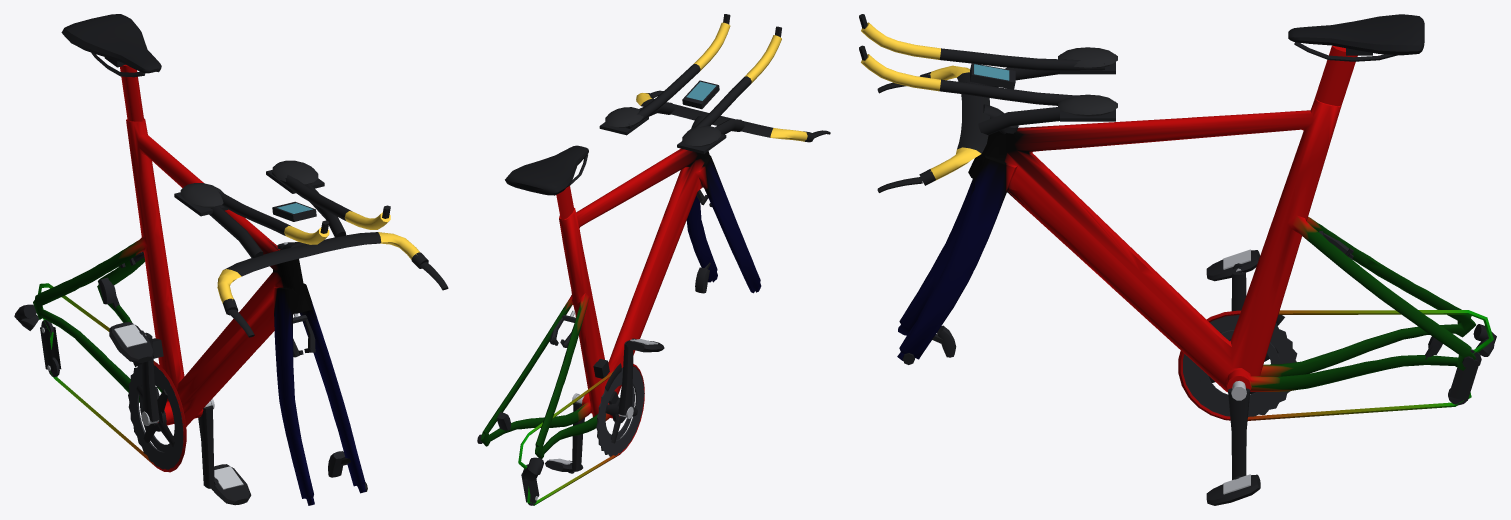
The picture shows the model from 3 angles, left to right: view 1: azimuth 30°, elevation 25°; view 2: azimuth 150°, elevation 25°; view 3: azimuth 270°, elevation 25°; orthographic projection. The views are drawn at different scales.
Visible parts, largest first — view 1: frame, cockpit, crankset, saddle, opt_derailleur, pedal_R, pedal_L, opt_brakes_disc, opt_brakes_rim; view 2: frame, cockpit, crankset, saddle, opt_derailleur, opt_brakes_disc, opt_brakes_rim, pedal_R; view 3: frame, cockpit, crankset, saddle, opt_derailleur, pedal_L, pedal_R, opt_brakes_disc.
Part boxes in pixels (bbox=[...]): frame: bbox=[33, 64, 365, 505]; cockpit: bbox=[174, 160, 448, 337]; crankset: bbox=[128, 332, 214, 488]; saddle: bbox=[61, 14, 161, 77]; opt_derailleur: bbox=[14, 304, 163, 377]; pedal_R: bbox=[109, 322, 154, 362]; pedal_L: bbox=[211, 464, 251, 505]; opt_brakes_disc: bbox=[98, 277, 367, 491]; opt_brakes_rim: bbox=[118, 251, 315, 357]; frame: bbox=[480, 148, 761, 505]; cockpit: bbox=[599, 14, 830, 153]; crankset: bbox=[572, 340, 644, 471]; saddle: bbox=[505, 145, 588, 195]; opt_derailleur: bbox=[521, 359, 621, 505]; opt_brakes_disc: bbox=[477, 262, 710, 443]; opt_brakes_rim: bbox=[549, 190, 711, 347]; pedal_R: bbox=[626, 338, 664, 352]; frame: bbox=[897, 45, 1493, 420]; cockpit: bbox=[859, 14, 1117, 192]; crankset: bbox=[1183, 272, 1297, 479]; saddle: bbox=[1288, 14, 1424, 61]; opt_derailleur: bbox=[1276, 315, 1496, 405]; pedal_L: bbox=[1206, 474, 1260, 505]; pedal_R: bbox=[1206, 249, 1260, 281]; opt_brakes_disc: bbox=[902, 325, 1474, 368].
Bounding box in the file's own units: 0.4423 × 0.8869 × 1.14.
